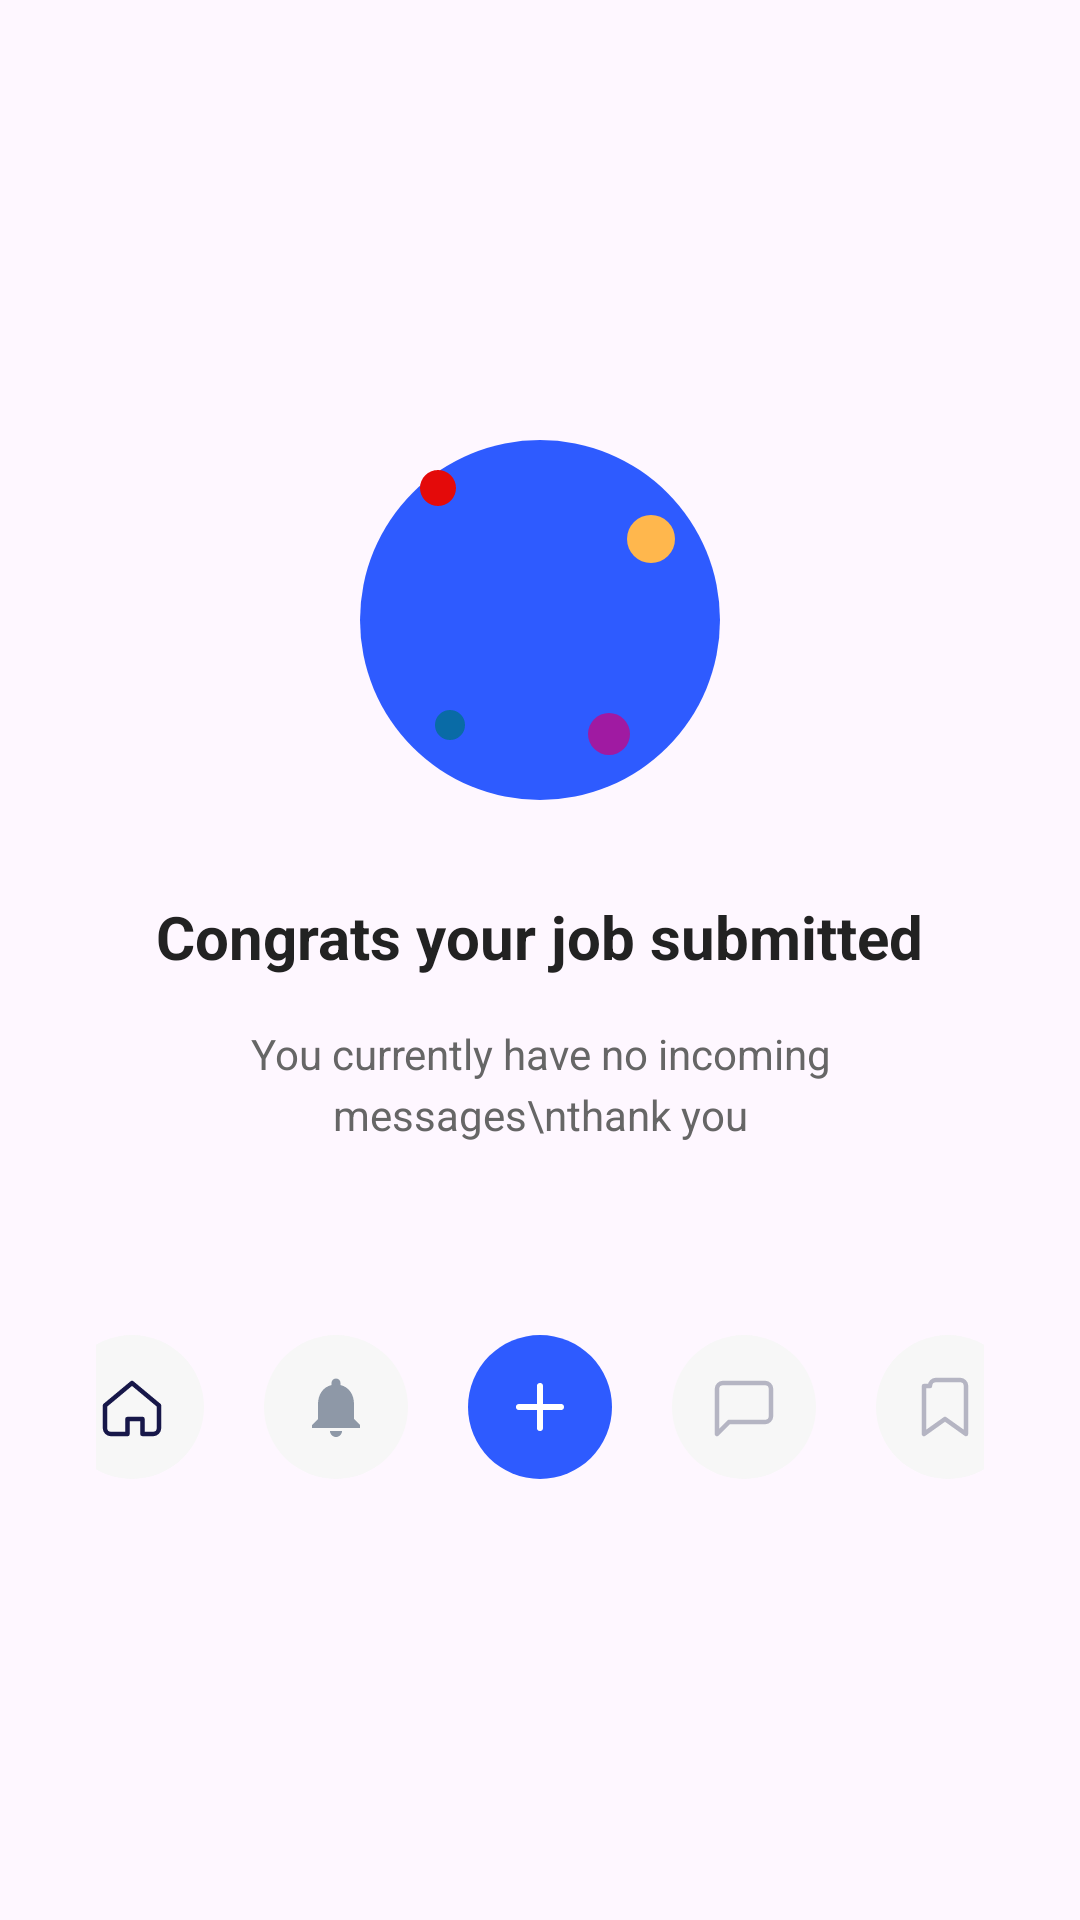

Where to tap for icons on this 1080x1920 app screen, as point (x, y):
Add More Jobs: point (540, 1407)
Bookmarks: point (945, 1407)
Go to Home: point (132, 1408)
Messages: point (744, 1408)
Notifications: point (336, 1407)
